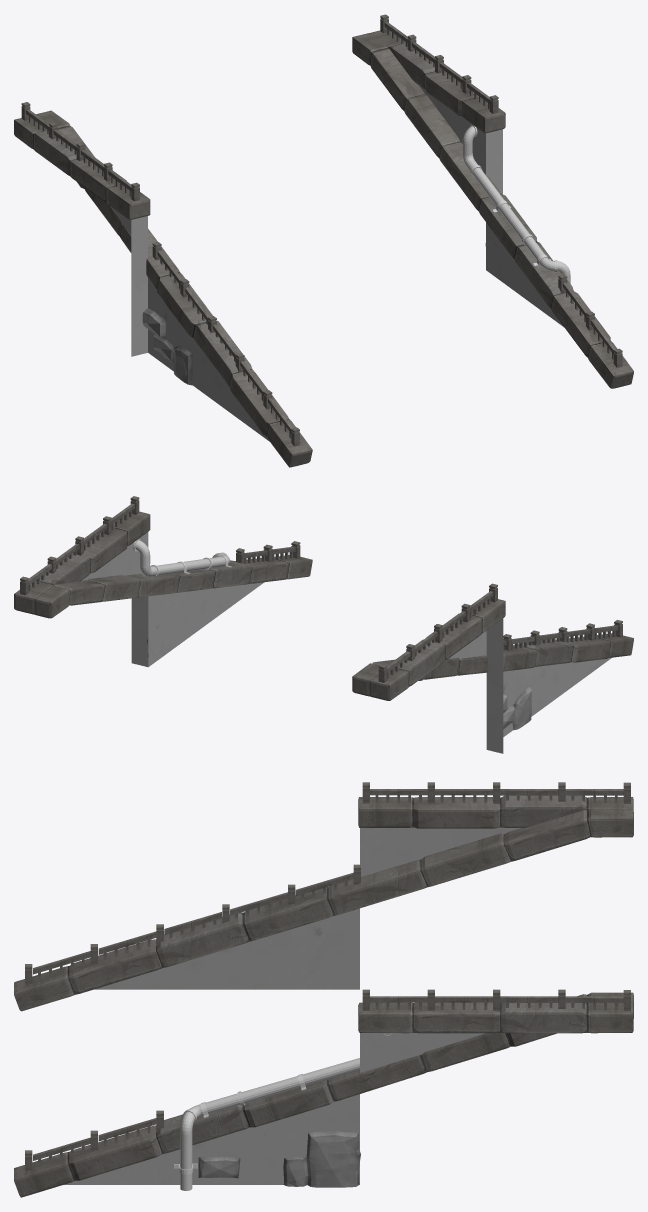
File: SM_ENV_KNVLLG_AreaJ_Wall_A.fbx
The picture shows the model from 3 angles, top to bottom: view 1: azimuth 30°, elevation 25°; view 2: azimuth 150°, elevation 25°; view 3: azimuth 270°, elevation 25°; orthographic projection. The views are drawn at different scales.
Visible parts, largest first — view 1: SM_ENV_KNVLLG_AreaJ_Wall_A.mo; view 2: SM_ENV_KNVLLG_AreaJ_Wall_A.mo; view 3: SM_ENV_KNVLLG_AreaJ_Wall_A.mo.
Boxes of the visible parts, x1,y1,x2,y2 form: SM_ENV_KNVLLG_AreaJ_Wall_A.mo: (14, 14, 633, 467); SM_ENV_KNVLLG_AreaJ_Wall_A.mo: (14, 496, 633, 753); SM_ENV_KNVLLG_AreaJ_Wall_A.mo: (14, 782, 633, 1197).
Bounding box in the file's own units: 2731 × 1237 × 3285.
